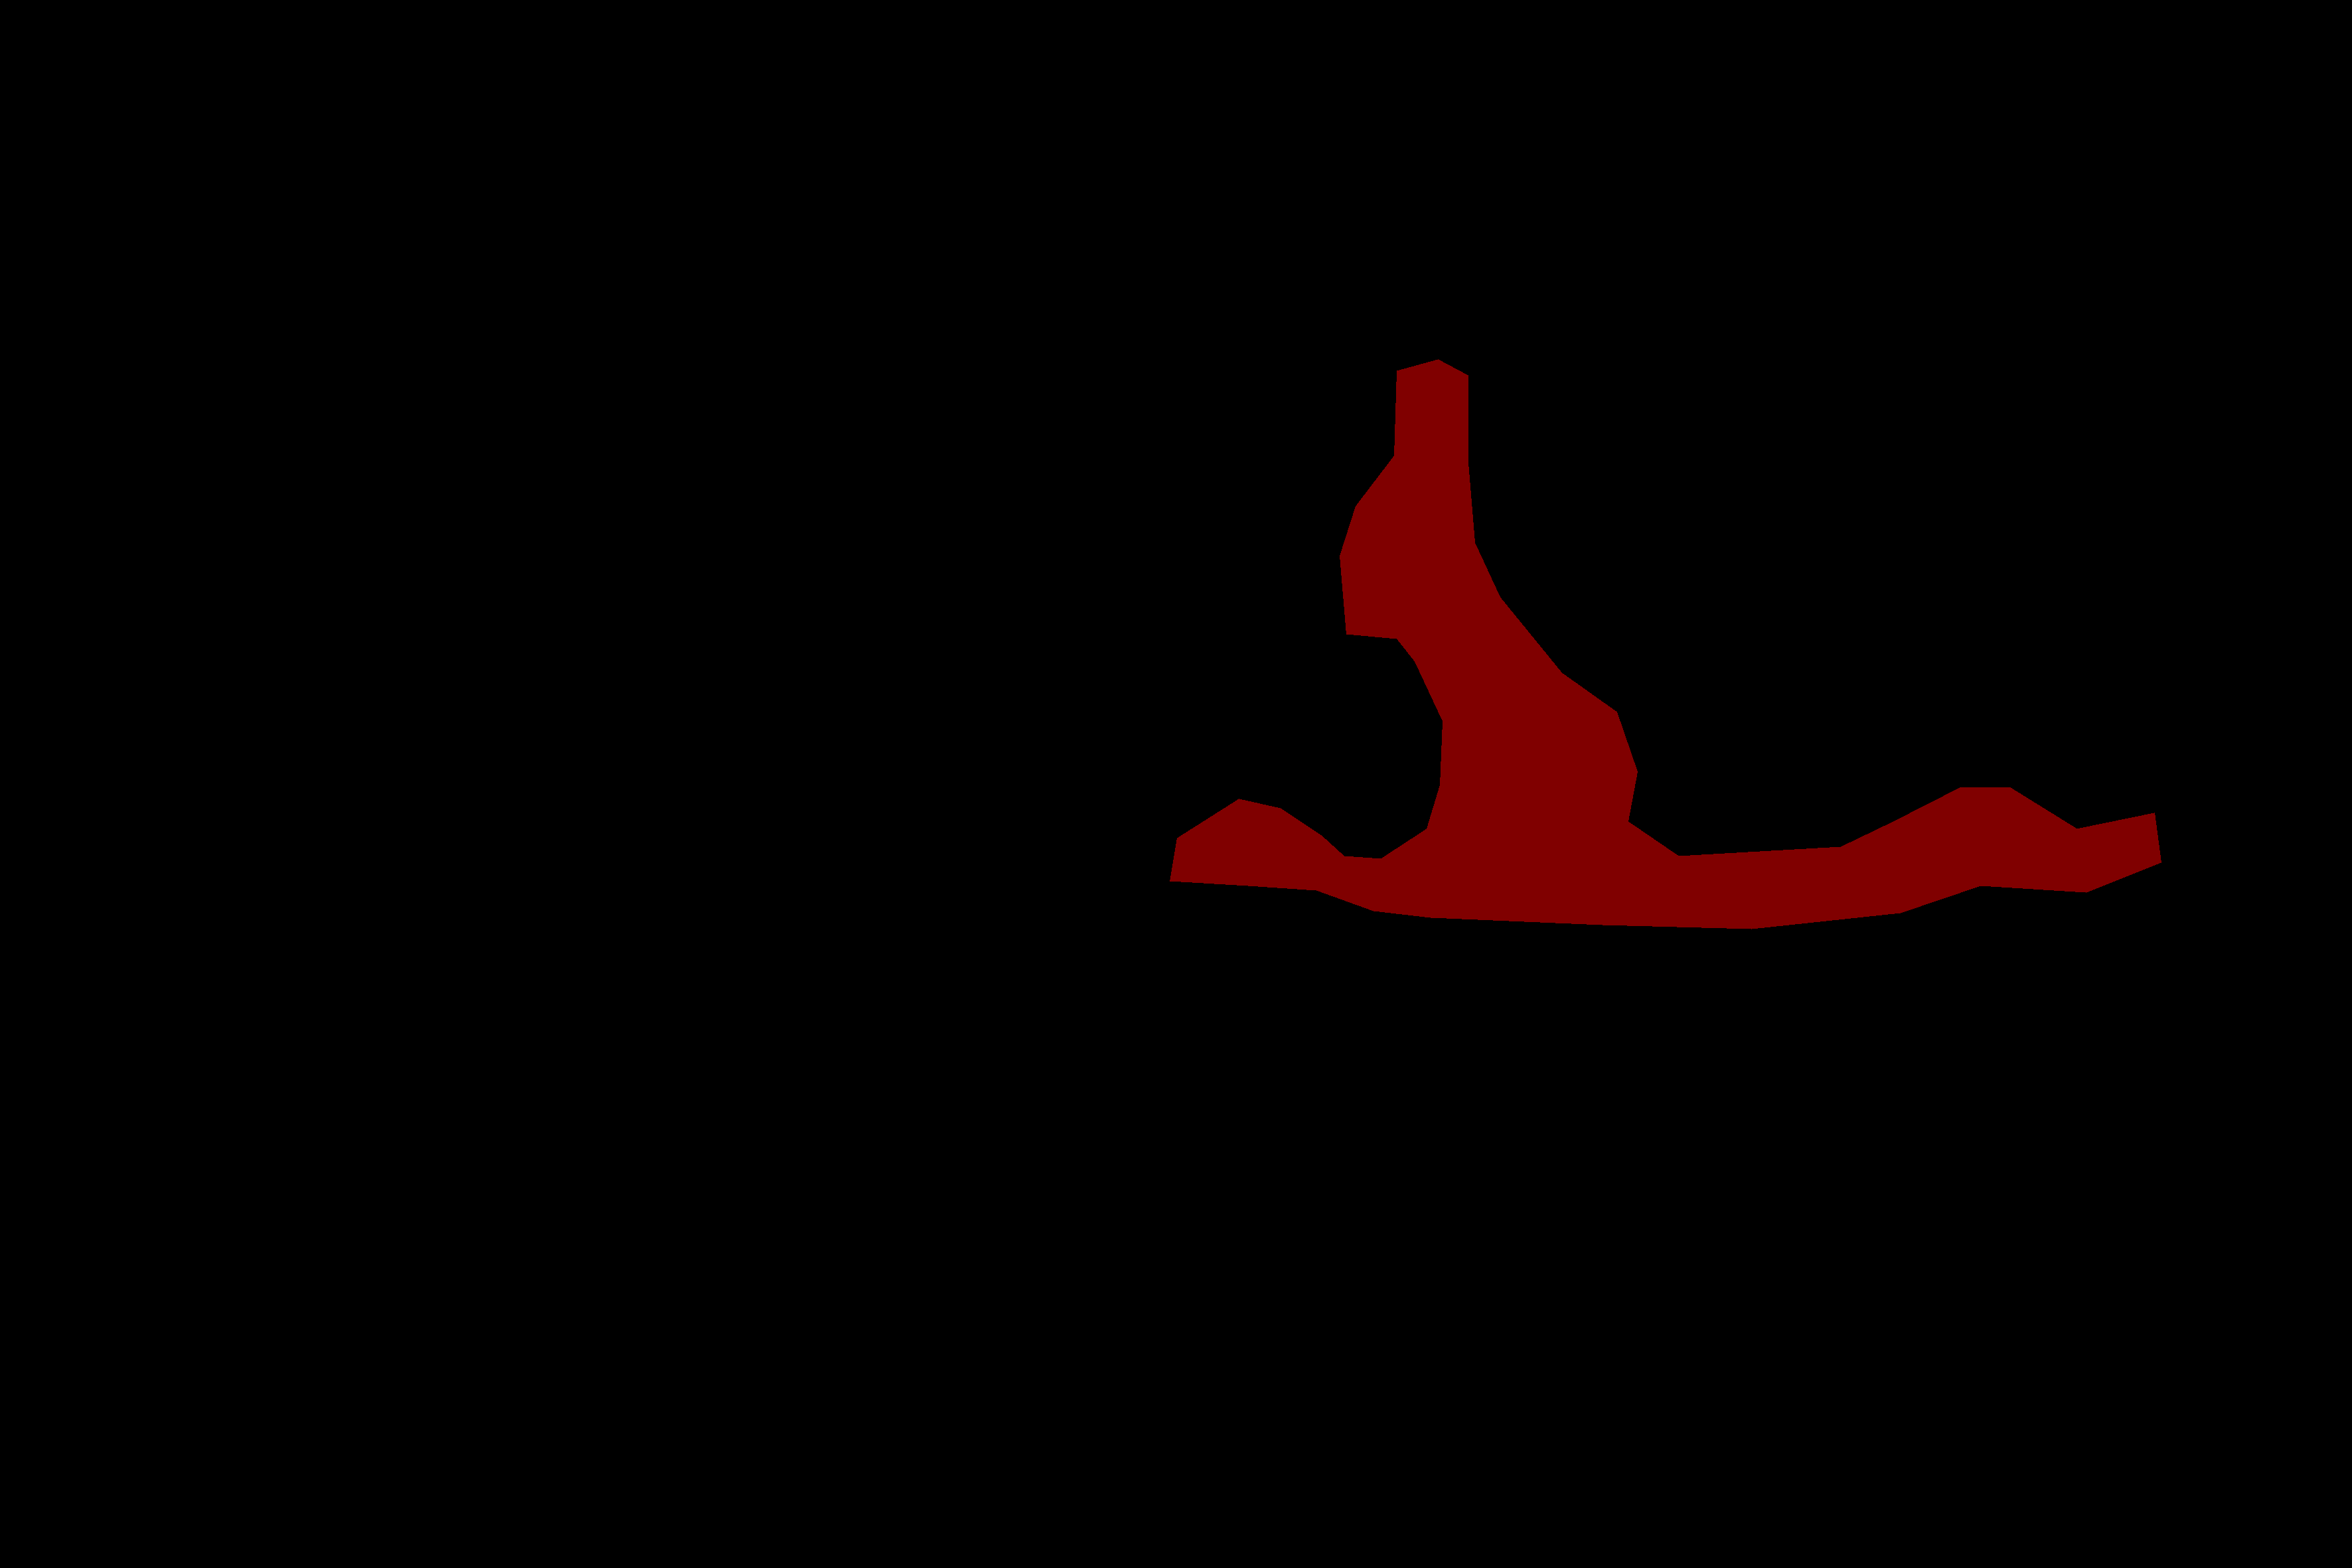fire: (1169, 359, 2161, 929)
